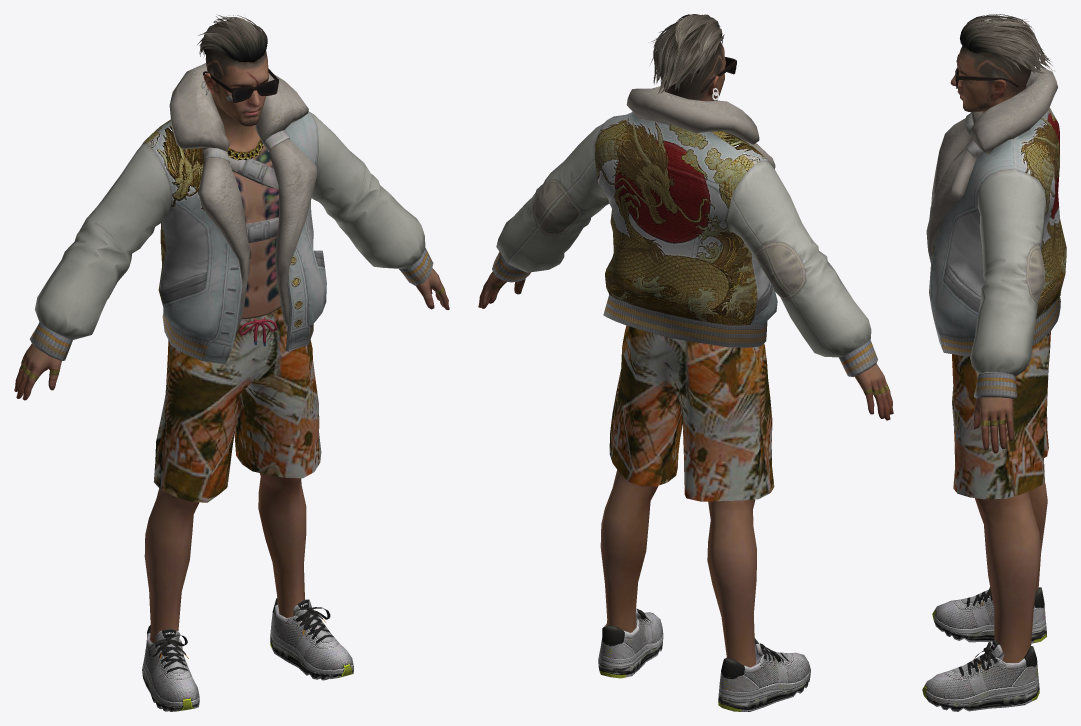
File: eeth.glb
3 views of the same model, side by side, from view 1: azimuth 30°, elevation 25°; view 2: azimuth 150°, elevation 25°; view 3: azimuth 270°, elevation 25° (orthographic).
Parts seen in each view (by area): view 1: Object_5, Object_3, Object_4, Object_2, Object_8; view 2: Object_5, Object_3, Object_4, Object_2, Object_8; view 3: Object_5, Object_4, Object_3, Object_2, Object_8, Object_6.
Part boxes in pixels (bbox=[...]): Object_5: bbox=[20, 63, 444, 380]; Object_3: bbox=[153, 306, 321, 502]; Object_4: bbox=[14, 49, 449, 642]; Object_2: bbox=[142, 598, 353, 711]; Object_8: bbox=[197, 14, 267, 62]; Object_5: bbox=[484, 86, 889, 395]; Object_3: bbox=[609, 325, 774, 501]; Object_4: bbox=[478, 41, 893, 667]; Object_2: bbox=[598, 608, 810, 711]; Object_8: bbox=[650, 14, 724, 94]; Object_5: bbox=[926, 68, 1066, 426]; Object_4: bbox=[950, 46, 1047, 662]; Object_3: bbox=[952, 331, 1050, 499]; Object_2: bbox=[922, 587, 1046, 711]; Object_8: bbox=[960, 14, 1054, 73]; Object_6: bbox=[955, 54, 1019, 88].
Size of the model in its own units: 5.04 by 7.55 by 1.52.
Materials: 8 (7 with a texture image).
